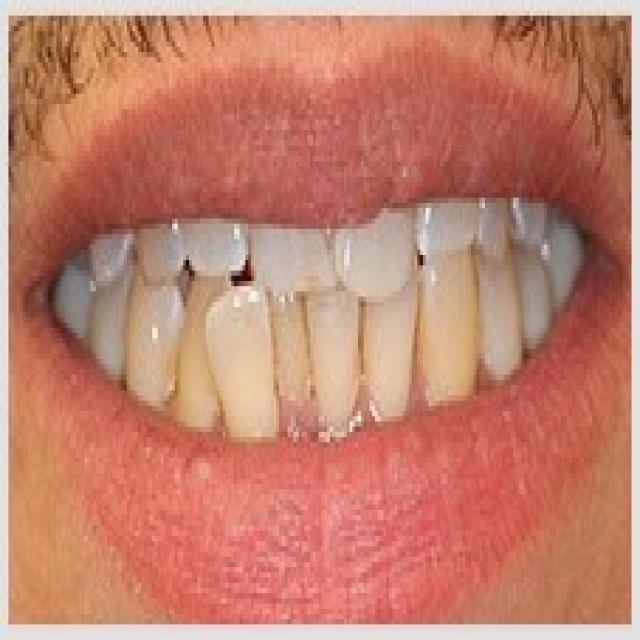tooth: (212, 302, 270, 442), (256, 218, 332, 296), (338, 218, 414, 296), (420, 276, 471, 390), (130, 281, 174, 406), (476, 265, 524, 375), (189, 208, 251, 286), (313, 312, 361, 411), (370, 307, 414, 411), (274, 302, 308, 395), (192, 265, 211, 427), (133, 218, 186, 276), (414, 203, 474, 250), (96, 286, 127, 375)
